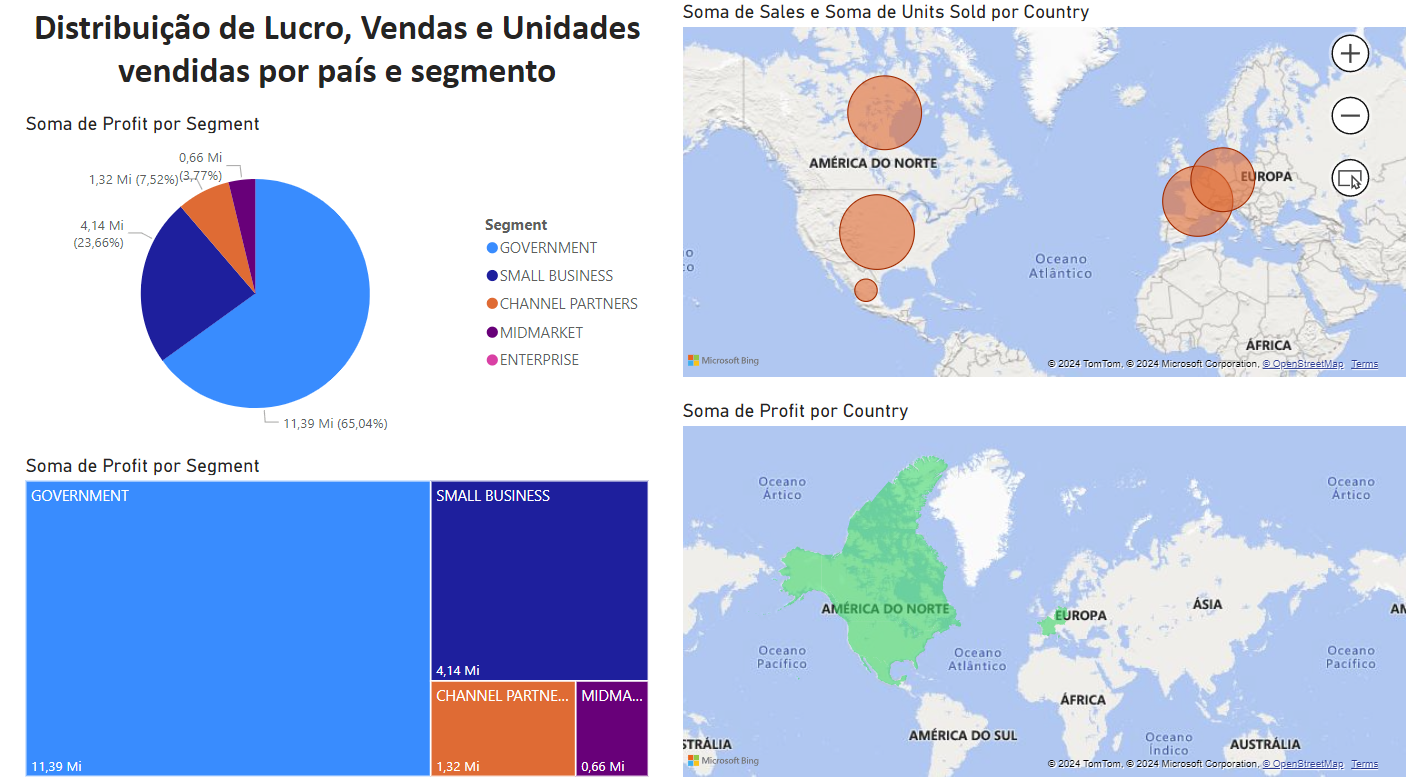

The dashboard page shown, as its layout file describes it:
{"tool":"powerbi","page":{"name":"Página 3","canvas":[1280,720],"ordinal":2},"visuals":[{"type":"pieChart","fields":{"Category":["financials.Segment"],"Y":["Sum(financials.Profit)"]},"box":[27,117,570.6,307.8],"z":0},{"type":"map","fields":{"Category":["financials.Country"],"Size":["Sum(financials. Sales)"]},"box":[618.7,16.5,661.3,343.7],"z":1000},{"type":"filledMap","fields":{"Category":["financials.Country"]},"box":[618.7,375.3,661.3,345.1],"z":2000},{"type":"textbox","box":[27,16.2,570.6,100.8],"z":3000},{"type":"treemap","fields":{"Group":["financials.Segment"],"Values":["Sum(financials.Profit)"]},"box":[27,424.8,570.6,295.2],"z":4000}]}

Visuals, with their boxes in screenshot pixels (x1, y1, x2, y2), scaled from the page's 1280x720 canvas onto the 1408x781 screenshot:
pieChart - financials.Segment x Sum(financials.Profit): x1=30, y1=127, x2=657, y2=461
map - financials.Country x Sum(financials. Sales): x1=681, y1=18, x2=1407, y2=391
filledMap - financials.Country: x1=681, y1=407, x2=1407, y2=780
textbox: x1=30, y1=18, x2=657, y2=127
treemap - financials.Segment x Sum(financials.Profit): x1=30, y1=461, x2=657, y2=780
